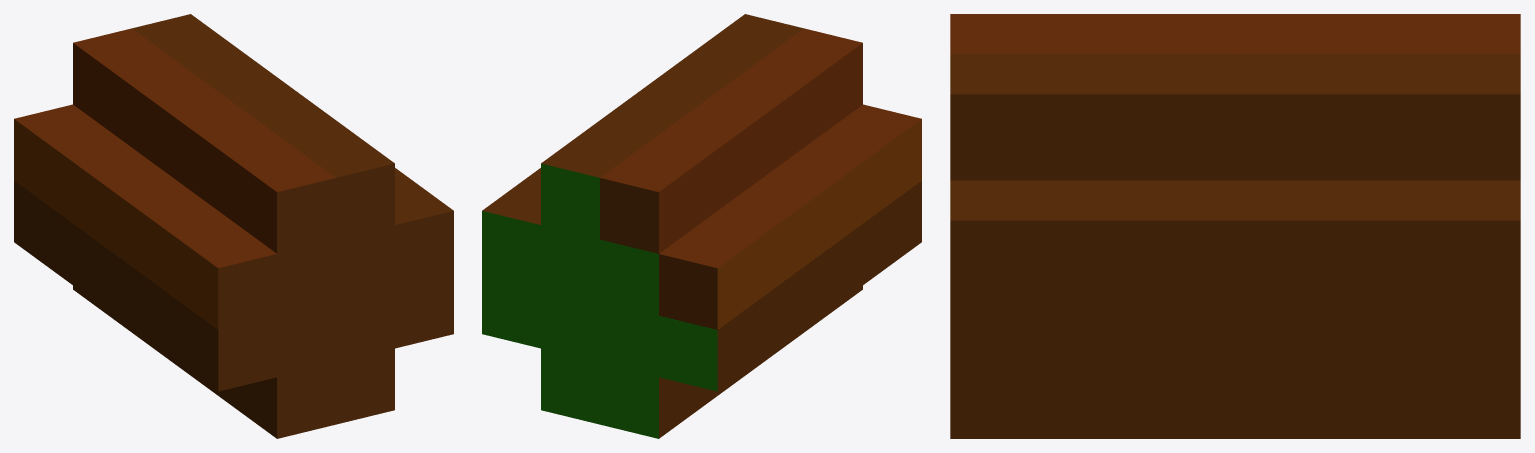
File: block_38.fbx
3 views of the same model, side by side, from view 1: azimuth 30°, elevation 25°; view 2: azimuth 150°, elevation 25°; view 3: azimuth 270°, elevation 25° (orthographic). The views are drawn at different scales.
Visible parts, largest first — view 1: Box.013; view 2: Box.013; view 3: Box.013.
Part boxes in pixels (bbox=[...]): Box.013: bbox=[14, 14, 453, 438]; Box.013: bbox=[482, 14, 921, 438]; Box.013: bbox=[950, 14, 1520, 438].
Bounding box in the file's own units: 4000 × 4000 × 6000.
